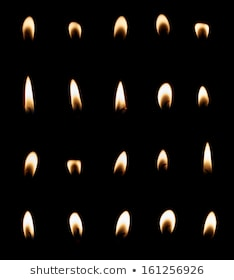Fire: (158, 205, 177, 236), (157, 77, 174, 110), (21, 11, 38, 42), (113, 78, 128, 113), (20, 208, 36, 239), (201, 140, 216, 173), (23, 75, 36, 113), (113, 208, 130, 237), (69, 77, 83, 111), (67, 210, 84, 237), (24, 148, 39, 178), (153, 12, 172, 35), (202, 207, 216, 236), (112, 15, 130, 37), (192, 20, 212, 38), (66, 17, 83, 38), (114, 148, 128, 173), (66, 157, 84, 175), (196, 83, 209, 106), (158, 147, 169, 170)
